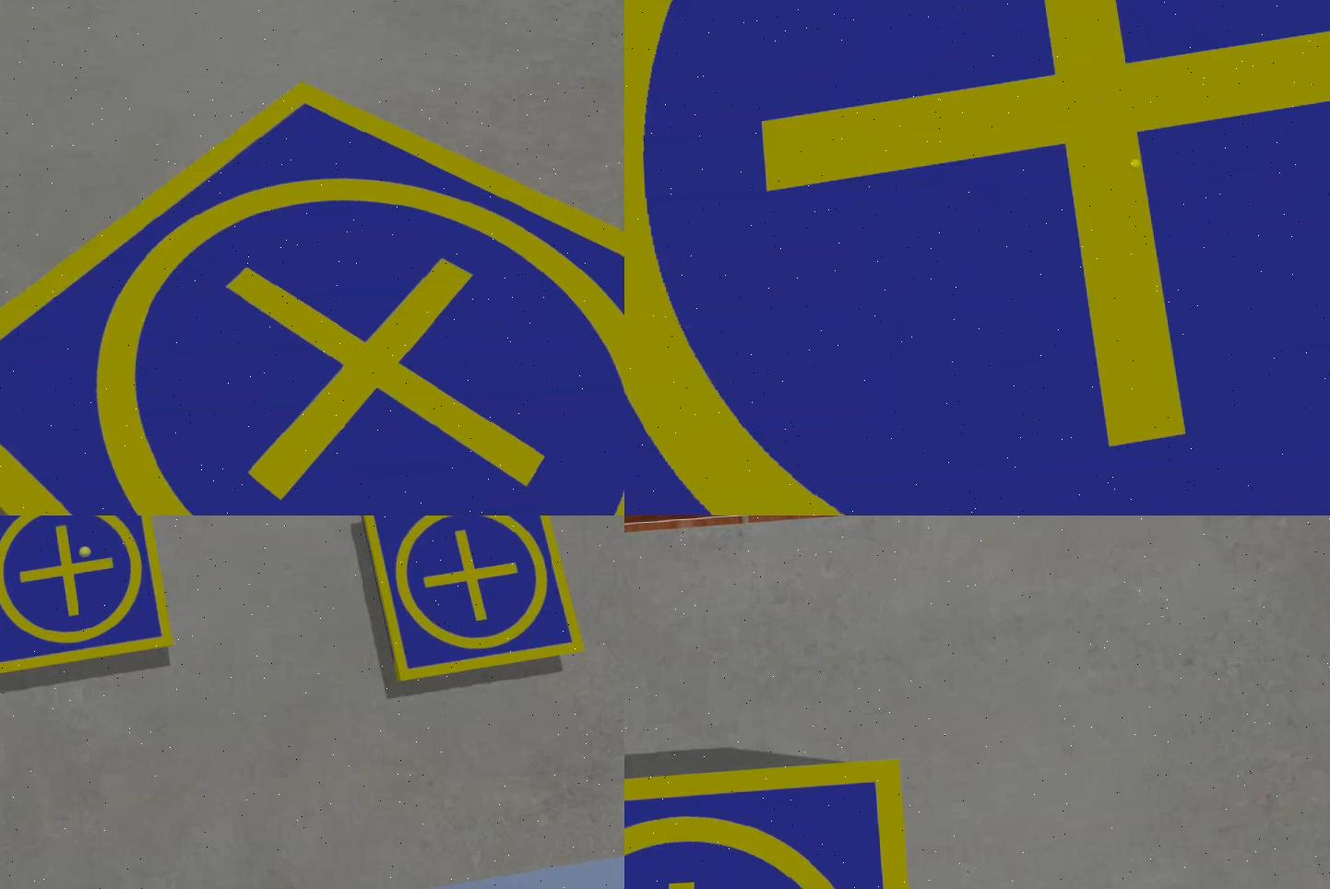small_base: (625, 1, 1330, 516), (1, 49, 625, 516), (357, 516, 588, 688), (1, 516, 176, 682)
